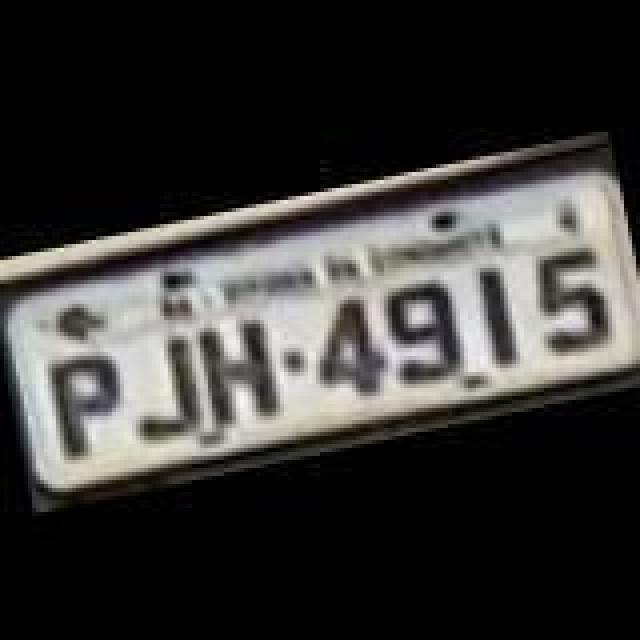1: (474, 260, 526, 372)
4: (306, 286, 398, 402)
5: (532, 240, 620, 360)
9: (378, 270, 470, 386)
H: (192, 312, 288, 432)
J: (114, 332, 206, 452)
P: (44, 342, 132, 458)
